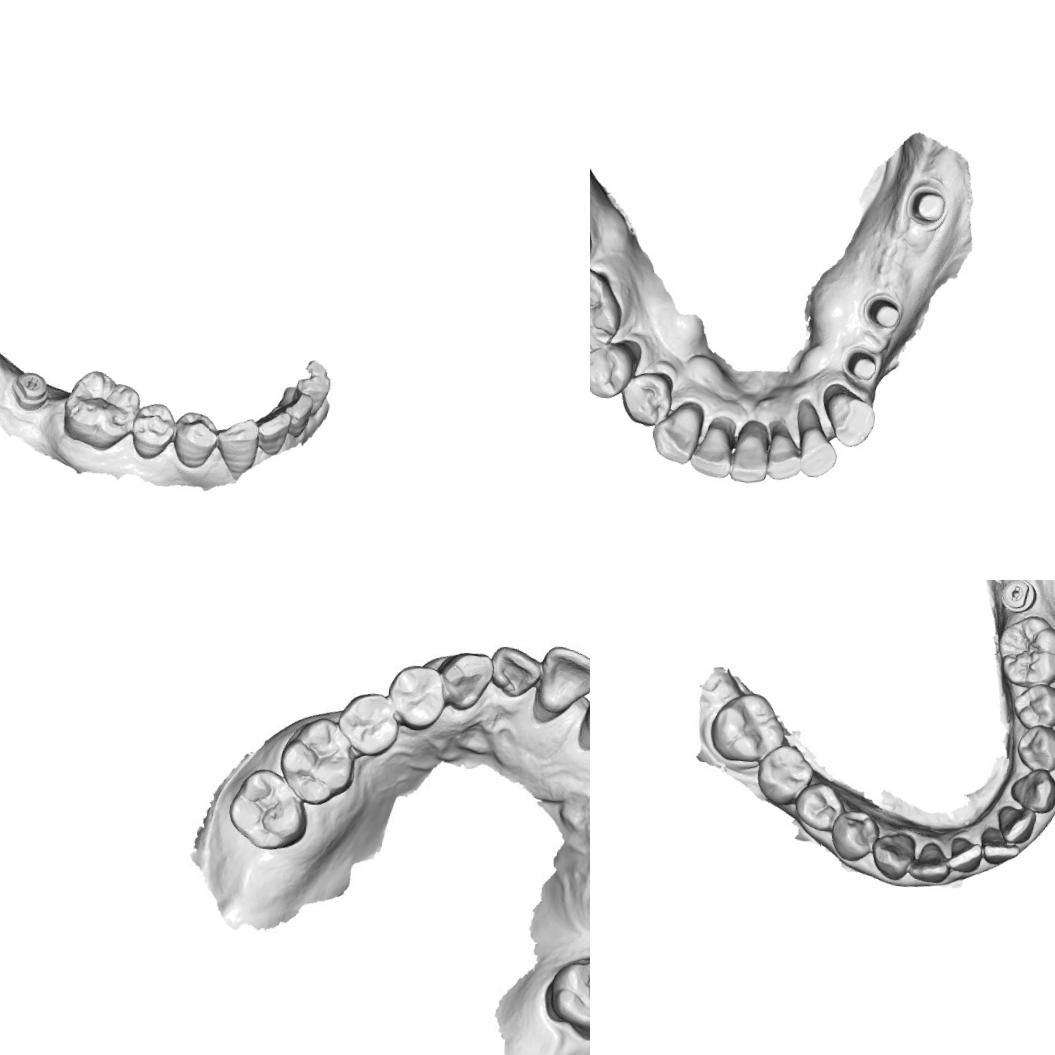abutment: (906, 184, 948, 229), (860, 292, 904, 333), (839, 345, 882, 386)
canine: (434, 647, 497, 714), (646, 402, 708, 470), (821, 387, 880, 451), (212, 414, 262, 482), (867, 828, 918, 882), (1007, 765, 1055, 816)
implant_minus: (8, 368, 52, 414), (998, 580, 1038, 614)
incisor: (528, 642, 590, 718), (488, 642, 547, 704), (795, 422, 844, 482), (726, 429, 773, 487), (688, 422, 734, 480), (764, 430, 807, 484), (907, 839, 955, 885), (977, 824, 1023, 867), (994, 802, 1038, 846), (256, 408, 293, 458), (282, 390, 316, 440), (945, 835, 984, 875)
molar: (275, 712, 363, 811), (58, 366, 146, 454), (225, 766, 312, 855), (707, 688, 790, 766), (992, 611, 1055, 691), (539, 948, 590, 1045), (754, 741, 819, 810), (590, 262, 631, 360)
premolar: (382, 660, 452, 734), (334, 688, 402, 759), (616, 368, 678, 431), (170, 408, 222, 471), (791, 778, 849, 834), (128, 400, 178, 463), (590, 338, 638, 403), (828, 807, 882, 864), (1009, 681, 1055, 734), (1014, 721, 1055, 773)
